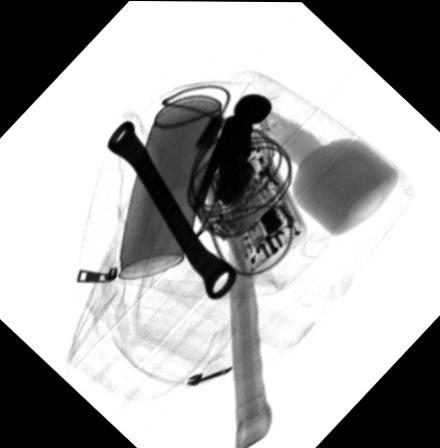Hammer: (196, 91, 273, 448)
Wrench: (108, 120, 239, 298)
